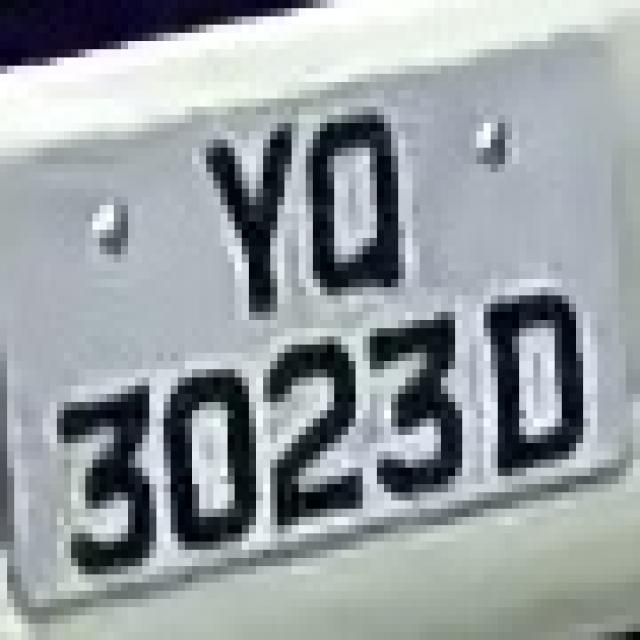0: (156, 353, 256, 550)
2: (249, 320, 370, 550)
3: (36, 361, 156, 599), (356, 279, 470, 517)
D: (470, 271, 598, 476)
Q: (292, 90, 426, 304)
Y: (185, 107, 299, 336)
